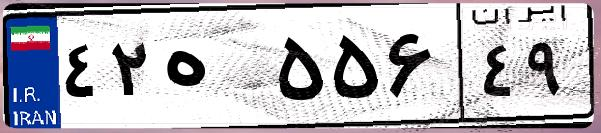2: (110, 28, 158, 98)
4: (57, 26, 110, 100), (475, 38, 525, 113)
5: (270, 28, 330, 110), (330, 28, 385, 110)
6: (385, 28, 445, 110)
9: (525, 38, 570, 115)
ه: (158, 20, 270, 120)
